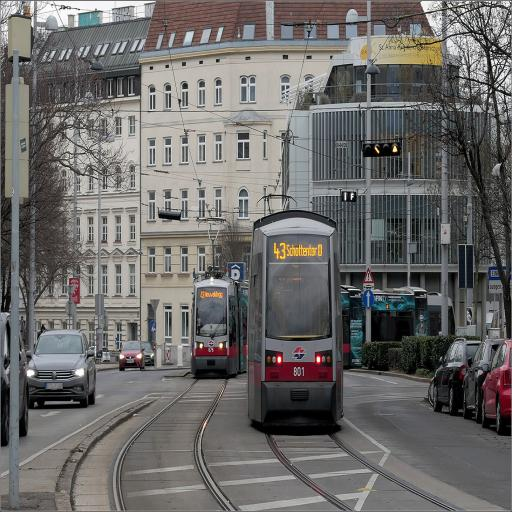ULF: (247, 211, 345, 432), (192, 278, 248, 380)
